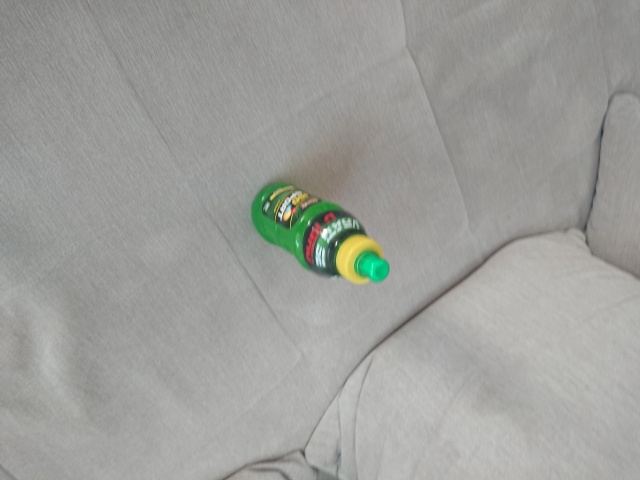Vindi Iso Sport Lemon-Grapefruit 500mL: (248, 179, 393, 288)
